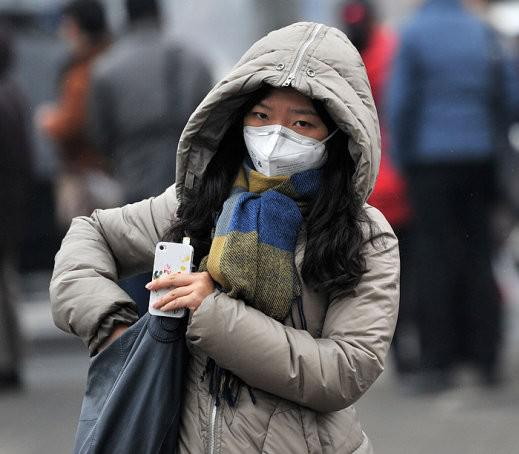OK: (249, 100, 330, 178)
